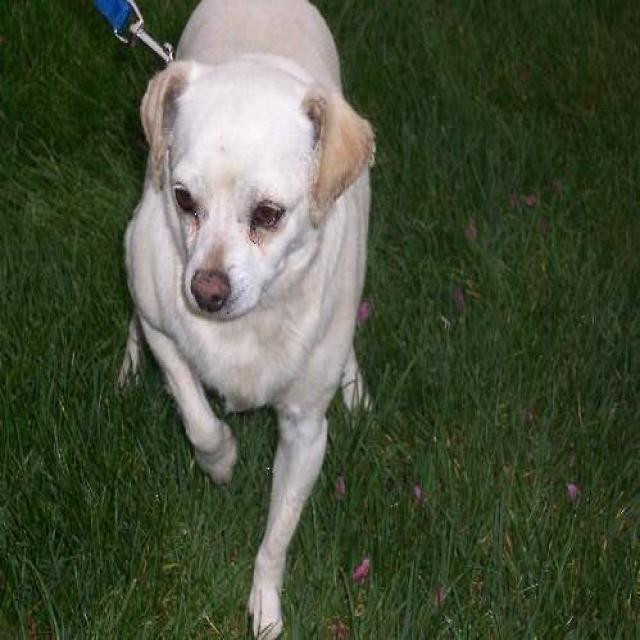dog: (115, 0, 377, 638)
